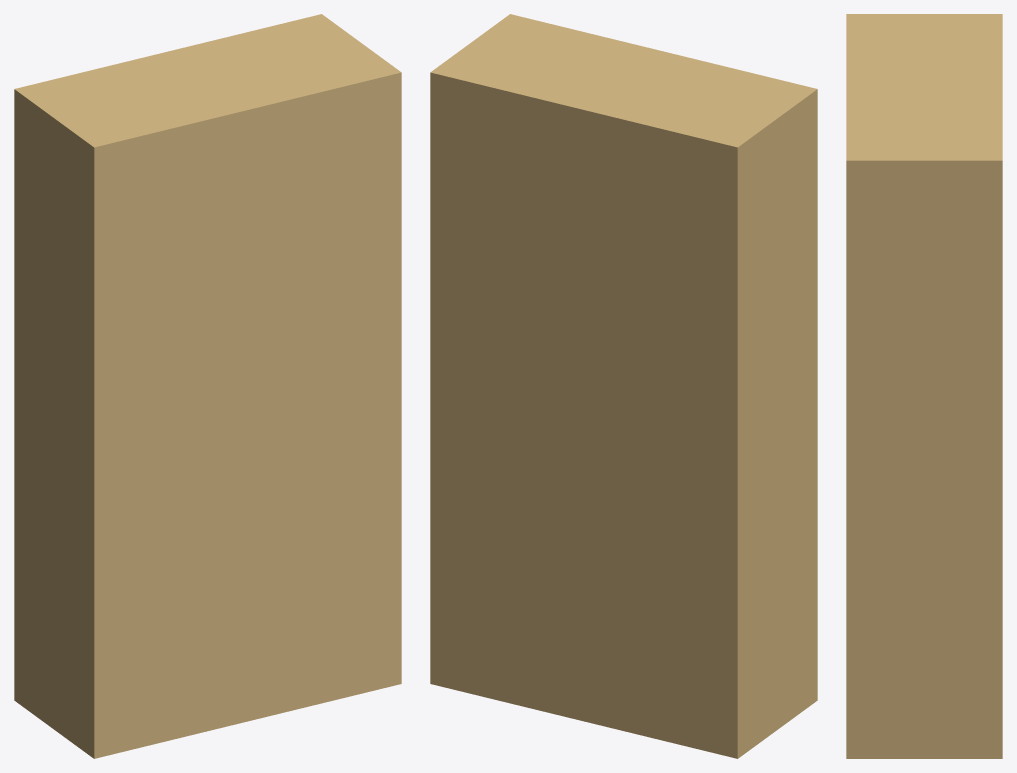
The picture shows the model from 3 angles, left to right: view 1: azimuth 30°, elevation 25°; view 2: azimuth 150°, elevation 25°; view 3: azimuth 270°, elevation 25°; orthographic projection. The views are drawn at different scales.
Parts seen in each view (by area): view 1: GF-L12-BLK-EDGE-C-023; view 2: GF-L12-BLK-EDGE-C-023; view 3: GF-L12-BLK-EDGE-C-023.
Part boxes in pixels (x1,y1,x2,y2): GF-L12-BLK-EDGE-C-023: (14, 14, 401, 758); GF-L12-BLK-EDGE-C-023: (430, 14, 817, 758); GF-L12-BLK-EDGE-C-023: (846, 14, 1002, 758).
Bounding box in the file's own units: 0.1 × 0.19 × 0.045.
